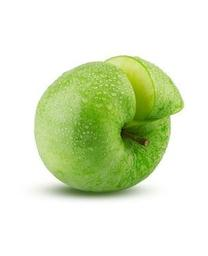apple: (32, 55, 184, 193)
